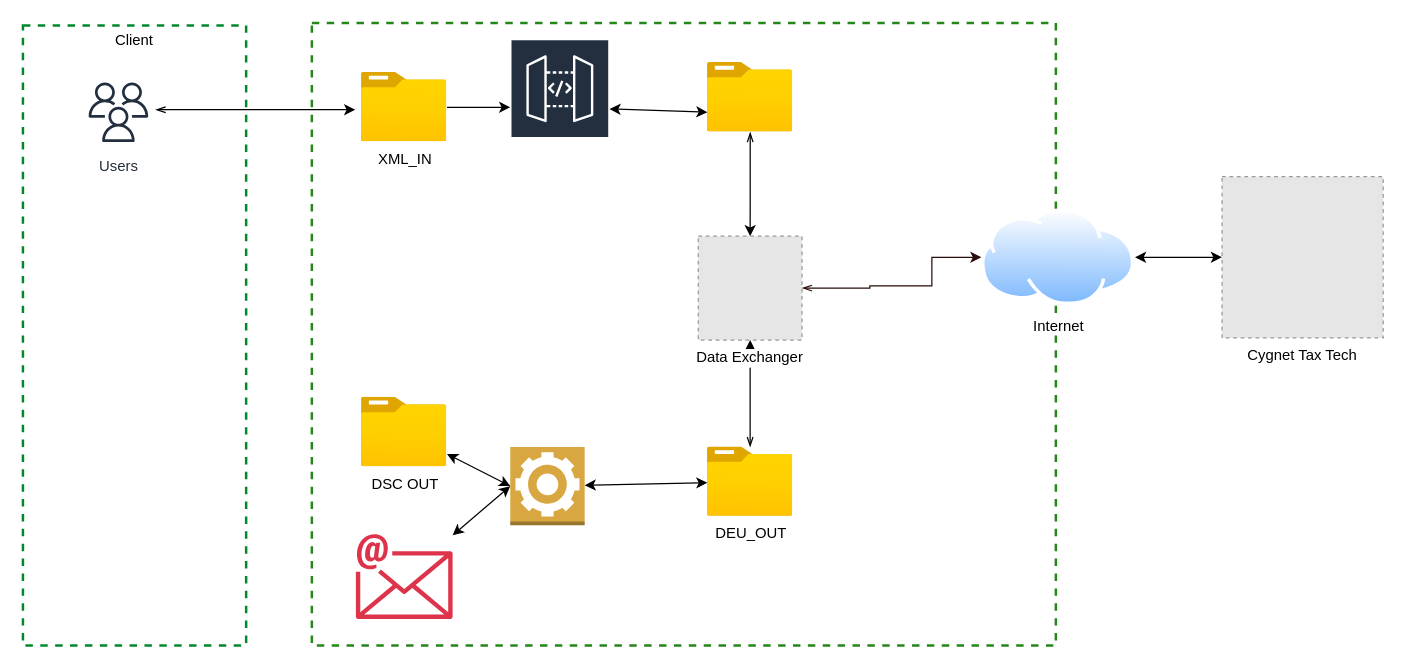
This 1405x667 diagram has some shape labels left out. Grey dashed boxes stand in for pictures. The shapes that lost their labels are listed below. From the top down, each one's box as (x1, y1, x2, y2) in pixels, then its label:
(509, 38, 609, 175): XML_Converter
(707, 62, 792, 131): XML_OUT/DEU_IN
(310, 21, 1056, 646): Server
(509, 446, 585, 525): DSC Lite
